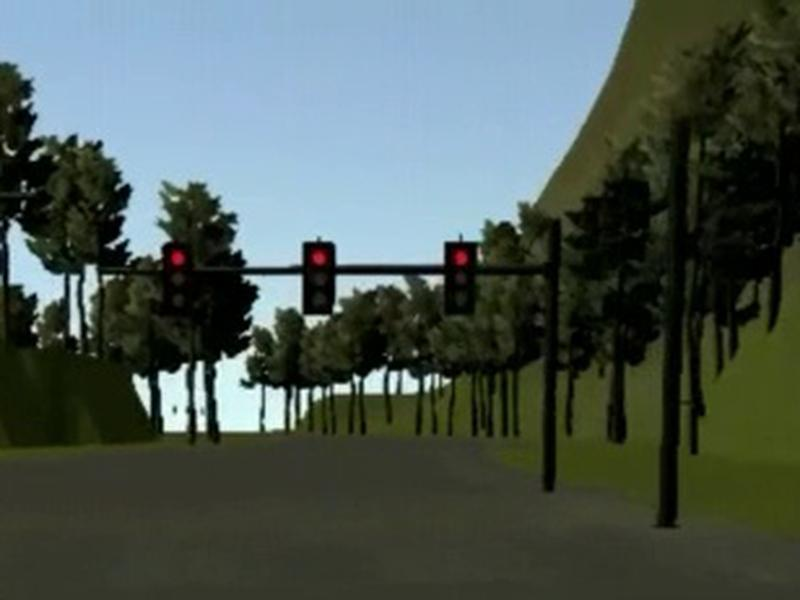Red: (162, 241, 196, 318), (445, 240, 476, 316), (304, 241, 336, 313)
